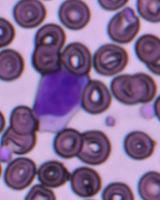L: (33, 68, 84, 130)
